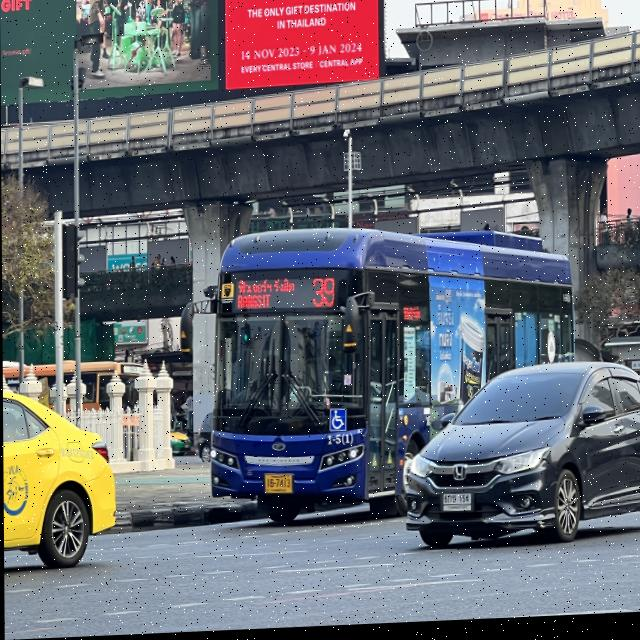Bus Line Number: (308, 277, 338, 315)
Bus Side Number: (326, 435, 354, 452)
Destination Sign: (234, 276, 299, 320)
TSB-Bus: (209, 232, 573, 528)
